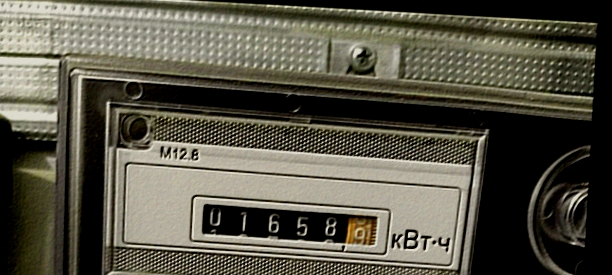0: (207, 206, 222, 229)
1: (237, 211, 248, 233)
5: (294, 215, 309, 238)
6: (265, 212, 280, 235)
8: (322, 215, 337, 238)
9: (350, 226, 365, 248)
screen: (182, 190, 397, 261)
